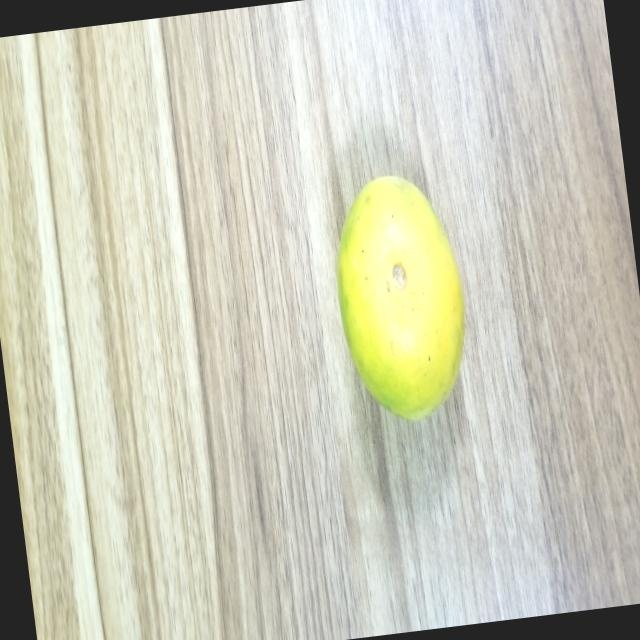agrume: (314, 144, 492, 428)
